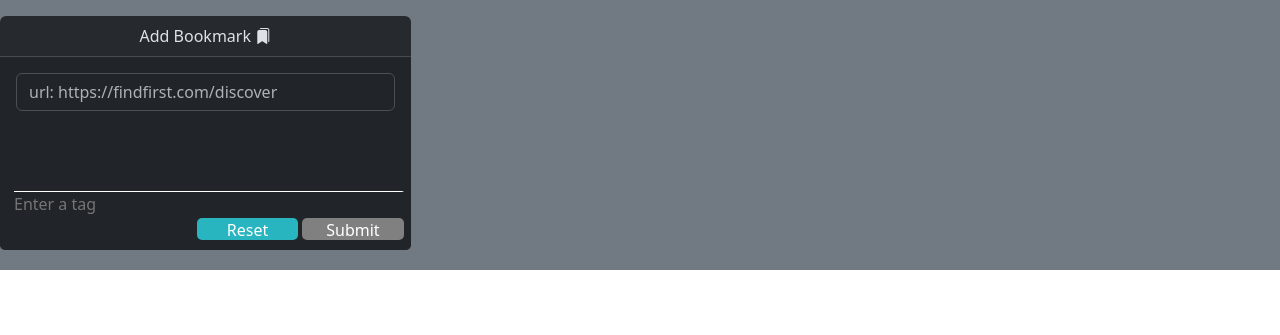
Scenario: Tags Operations › Click delete a Tag
Step 1. Type "Tag1" into the field with placeholder "Enter a tag" → (210, 204), box [14, 191, 406, 216]
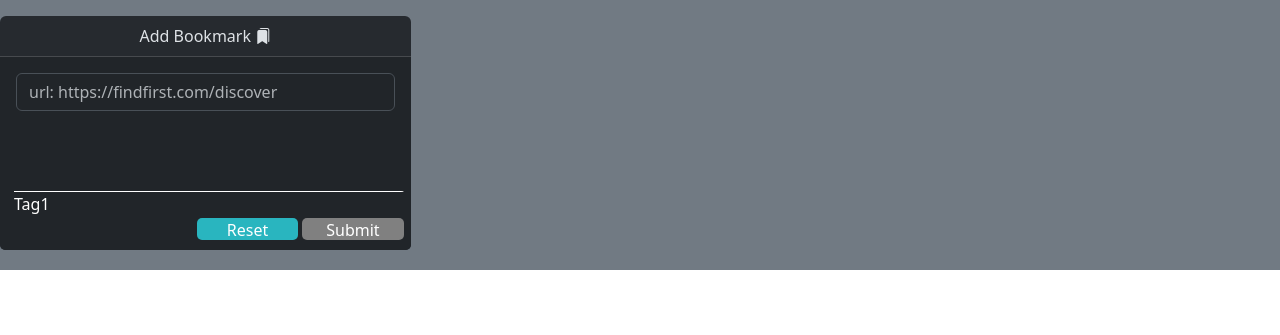
Step 2. Press Enter in the field with placeholder "Enter a tag", box [14, 191, 406, 216]
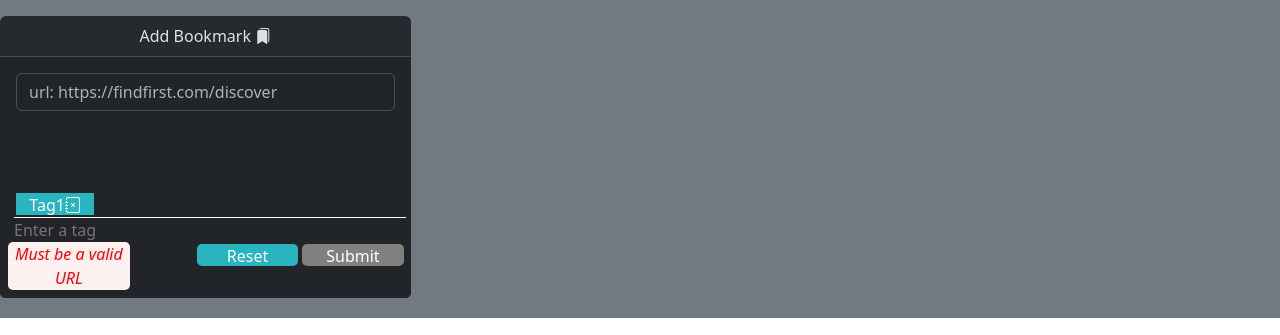
Step 3. Type "Tag2" into the field with placeholder "Enter a tag" → (210, 230), box [14, 217, 406, 242]
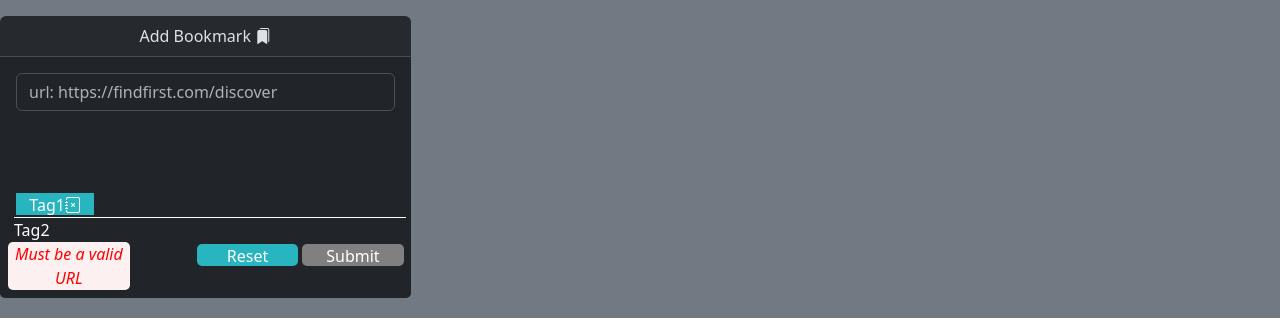
Step 4. Press Enter in the field with placeholder "Enter a tag", box [14, 217, 406, 242]
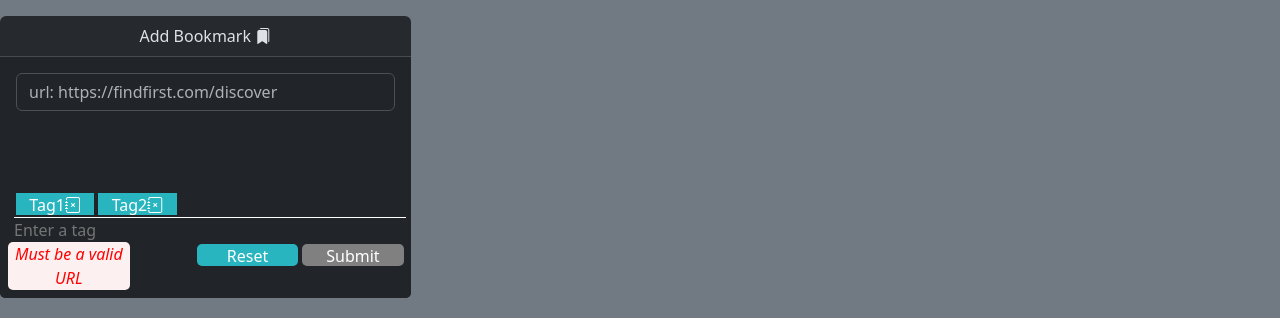
Step 5. Click the button with test id "new-bk-tag-Tag2" → (137, 204), box [98, 193, 177, 215]
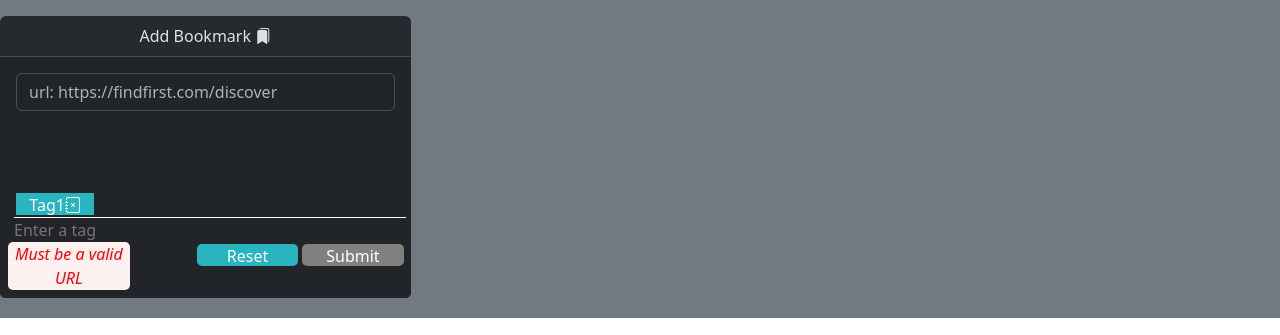
Expected: the button with test id "new-bk-tag-Tag2" is gone
